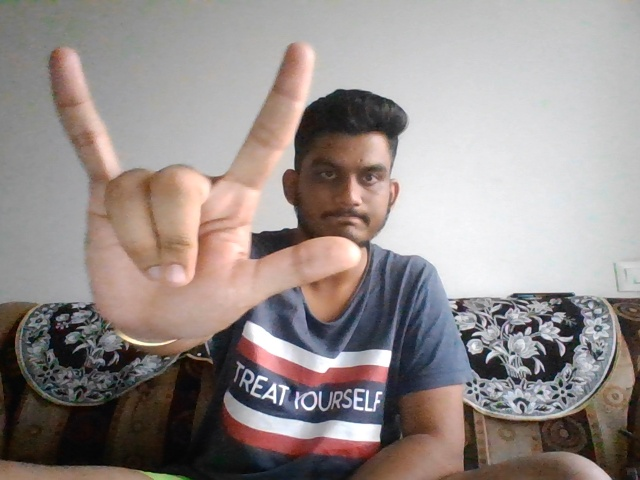I Love You: (45, 39, 359, 346)
